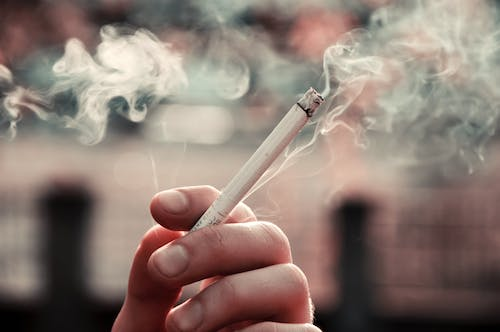cigarette: (188, 84, 326, 236)
